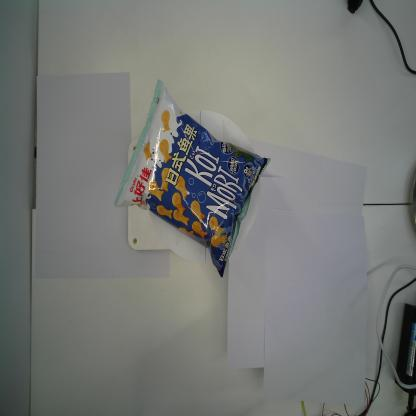Puffed Food: (113, 78, 271, 278)
